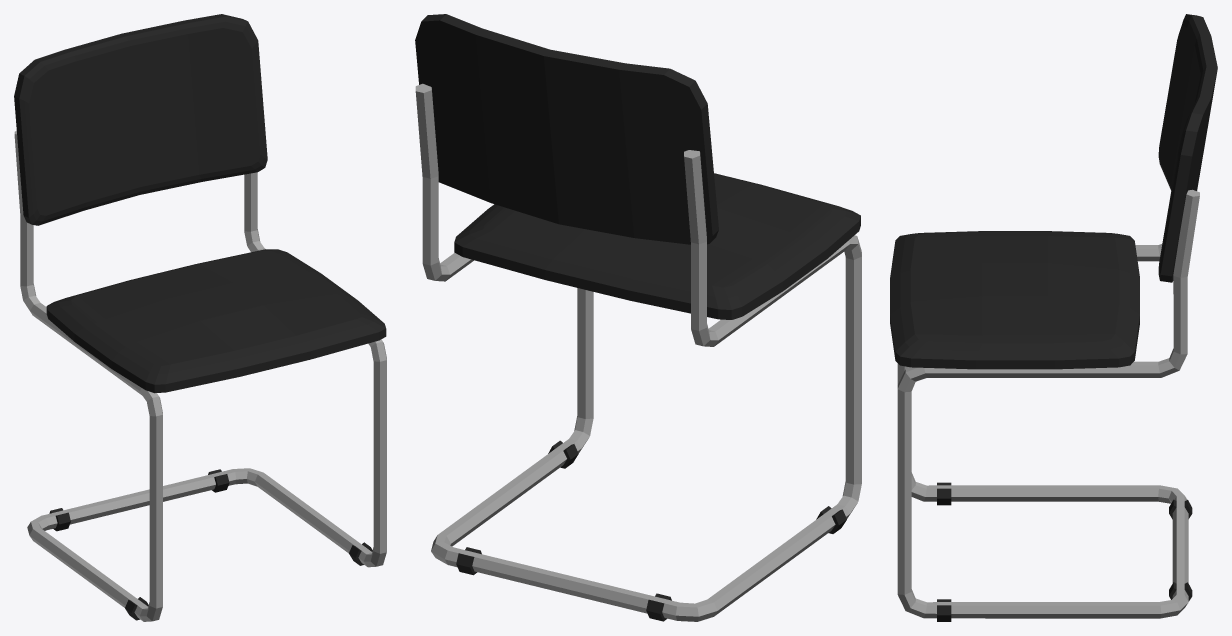
The model's file is Int_Chair02.fbx.
3 views of the same model, side by side, from view 1: azimuth 30°, elevation 25°; view 2: azimuth 150°, elevation 25°; view 3: azimuth 270°, elevation 25° (orthographic). The views are drawn at different scales.
Parts seen in each view (by area): view 1: Int_Chair02; view 2: Int_Chair02; view 3: Int_Chair02.
Boxes of the visible parts, x1=… form: Int_Chair02: x1=14, y1=14, x2=386, y2=621; Int_Chair02: x1=415, y1=14, x2=861, y2=621; Int_Chair02: x1=890, y1=14, x2=1217, y2=621.
Size of what is drawn, in the model's own units: 58.84 by 63.46 by 106.
